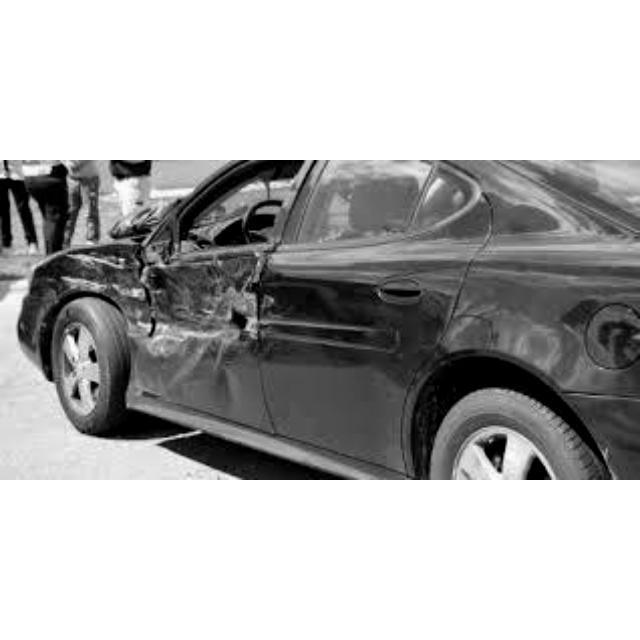doorouter-dent: (137, 241, 255, 383)
fender-dent: (53, 233, 147, 297)
